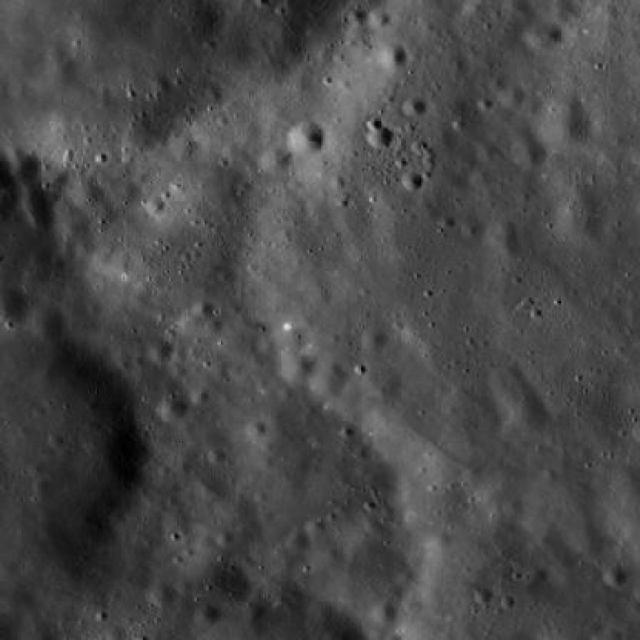crater: (0, 332, 146, 580), (95, 190, 248, 333), (170, 158, 250, 234), (331, 538, 411, 614), (400, 470, 468, 533), (200, 492, 263, 552), (490, 373, 552, 432), (440, 387, 502, 445), (534, 96, 592, 150), (197, 559, 251, 610), (557, 198, 606, 244), (24, 296, 68, 336), (0, 284, 34, 332), (511, 132, 551, 171), (362, 364, 400, 402), (43, 56, 82, 93), (572, 526, 611, 562), (286, 122, 323, 158), (310, 363, 347, 399), (18, 190, 57, 224), (282, 350, 320, 384), (526, 19, 562, 53), (487, 224, 522, 258), (70, 177, 104, 210), (0, 581, 35, 613), (258, 144, 292, 176), (157, 392, 190, 423), (10, 152, 42, 182), (58, 210, 91, 239), (197, 470, 228, 499), (378, 43, 408, 71), (170, 133, 198, 159), (147, 580, 175, 606), (192, 602, 220, 628), (359, 327, 387, 353), (150, 338, 176, 364), (178, 309, 204, 334), (113, 176, 139, 201), (498, 85, 524, 109), (550, 0, 578, 22), (0, 192, 18, 226), (368, 126, 392, 149), (374, 601, 398, 624), (468, 168, 492, 190), (190, 298, 213, 320), (286, 530, 309, 552), (246, 418, 269, 440), (478, 143, 500, 165), (450, 53, 472, 75), (403, 97, 425, 117), (369, 9, 391, 29), (44, 46, 66, 66), (146, 194, 168, 214), (604, 567, 626, 587), (404, 172, 424, 192), (199, 316, 219, 336), (74, 236, 94, 256), (308, 516, 328, 536), (210, 362, 230, 382), (151, 75, 171, 94), (474, 585, 494, 604), (196, 533, 216, 552), (504, 0, 530, 14), (216, 529, 235, 548), (461, 220, 481, 238), (433, 530, 453, 548), (504, 500, 524, 518), (462, 0, 485, 15), (192, 388, 211, 406), (35, 477, 53, 494), (208, 447, 226, 464), (489, 74, 506, 91), (347, 8, 365, 24), (476, 96, 493, 112), (537, 532, 554, 548), (258, 338, 274, 354), (7, 147, 24, 162)
